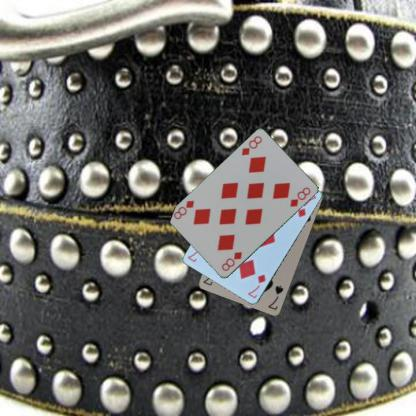7d: (245, 271, 267, 300)
7s: (266, 282, 285, 312)
8d: (239, 134, 263, 157), (219, 250, 243, 272)
